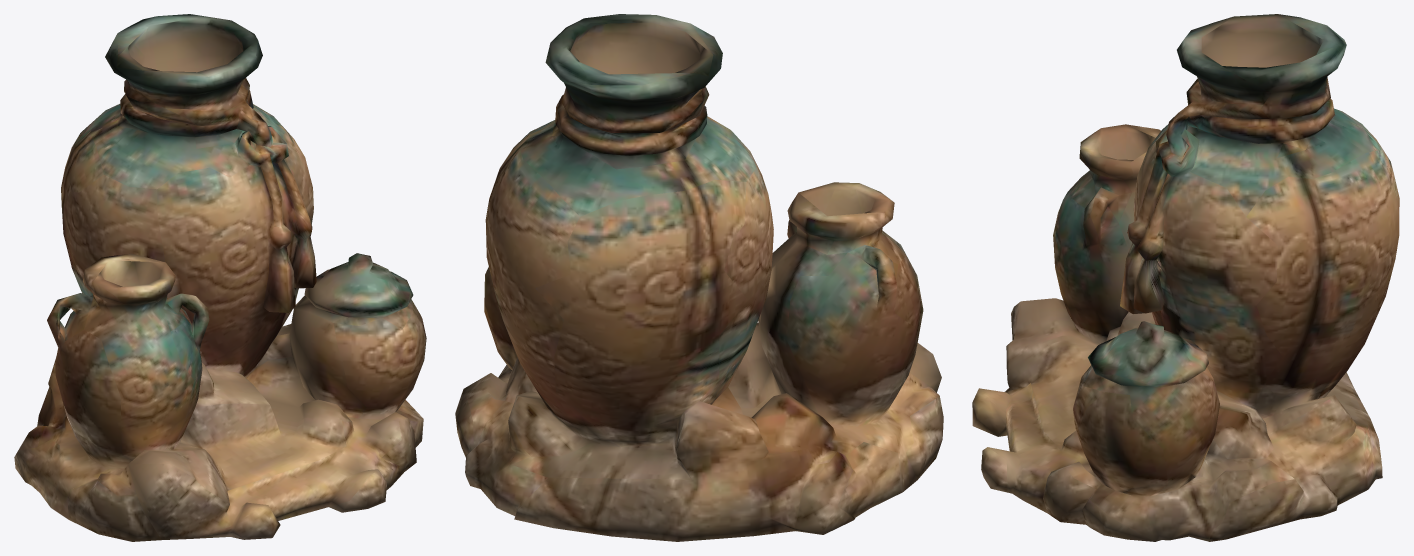
The model's file is SM_Prop_DesertUrns.glb.
3 views of the same model, side by side, from view 1: azimuth 30°, elevation 25°; view 2: azimuth 150°, elevation 25°; view 3: azimuth 270°, elevation 25° (orthographic). The views are drawn at different scales.
Visible parts, largest first — view 1: SM_Prop_DesertUrns_LOD0; view 2: SM_Prop_DesertUrns_LOD0; view 3: SM_Prop_DesertUrns_LOD0.
Boxes of the visible parts, box(x1,y1,x2,y2) form: SM_Prop_DesertUrns_LOD0: box(14, 14, 426, 541); SM_Prop_DesertUrns_LOD0: box(455, 14, 943, 541); SM_Prop_DesertUrns_LOD0: box(972, 14, 1399, 541).
Size of the model in its own units: 0.8196 by 0.8419 by 0.7884.
Materials: 1 (1 with a texture image).
